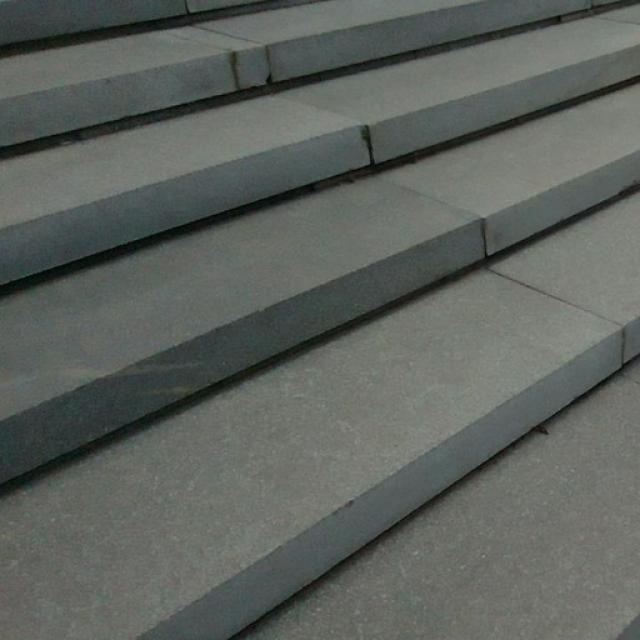stair: (0, 0, 613, 616)
